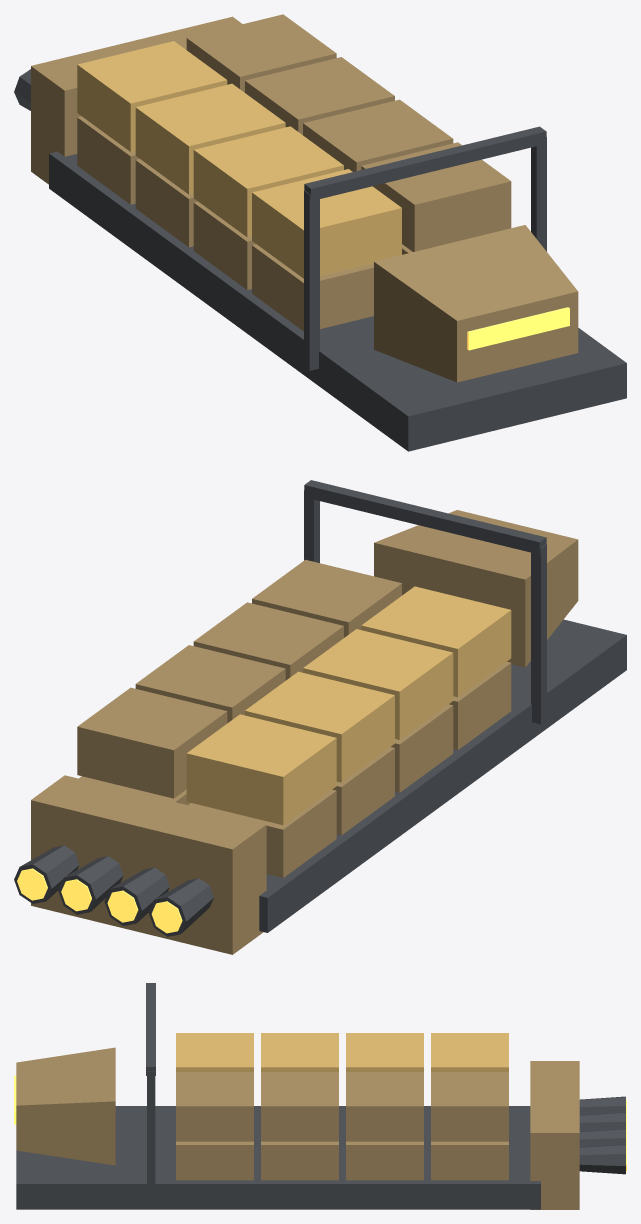
Rendered from foundry_barge.glb.
The picture shows the model from 3 angles, top to bottom: view 1: azimuth 30°, elevation 25°; view 2: azimuth 150°, elevation 25°; view 3: azimuth 270°, elevation 25°; orthographic projection. The views are drawn at different scales.
Visible parts, largest first — view 1: barge; view 2: barge; view 3: barge.
Part boxes in pixels (x1,y1,x2,y2): barge: [14, 14, 626, 451]; barge: [14, 480, 626, 954]; barge: [14, 983, 626, 1209].
Bounding box in the file's own units: 5.64 × 4.64 × 17.3.
